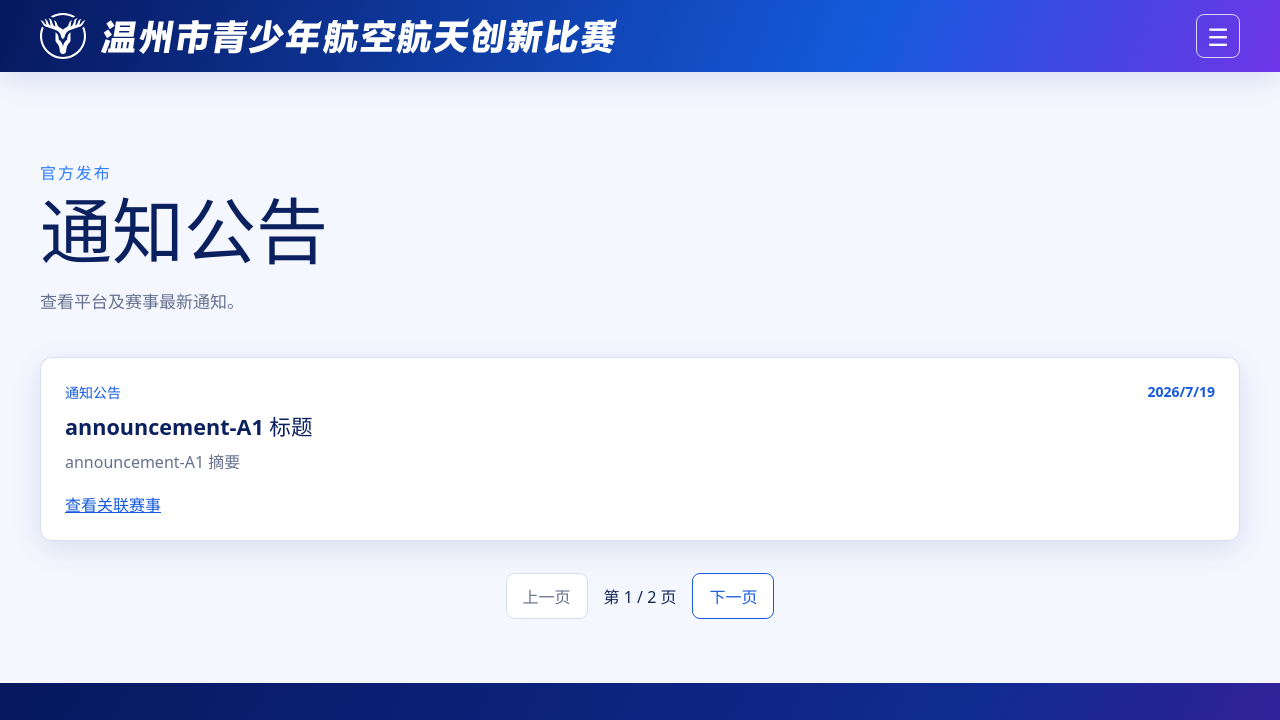
Scenario: public content lists › keeps announcements fixed to rows, paginates and preserves the legal type filter
The image size is (1280, 720).
Expected: the link "announcement-A1 标题" is shown, top-left (65, 412), bottom-right (313, 440)
Click the button "下一页" at (734, 596), box top-left (692, 573), bottom-right (774, 619)
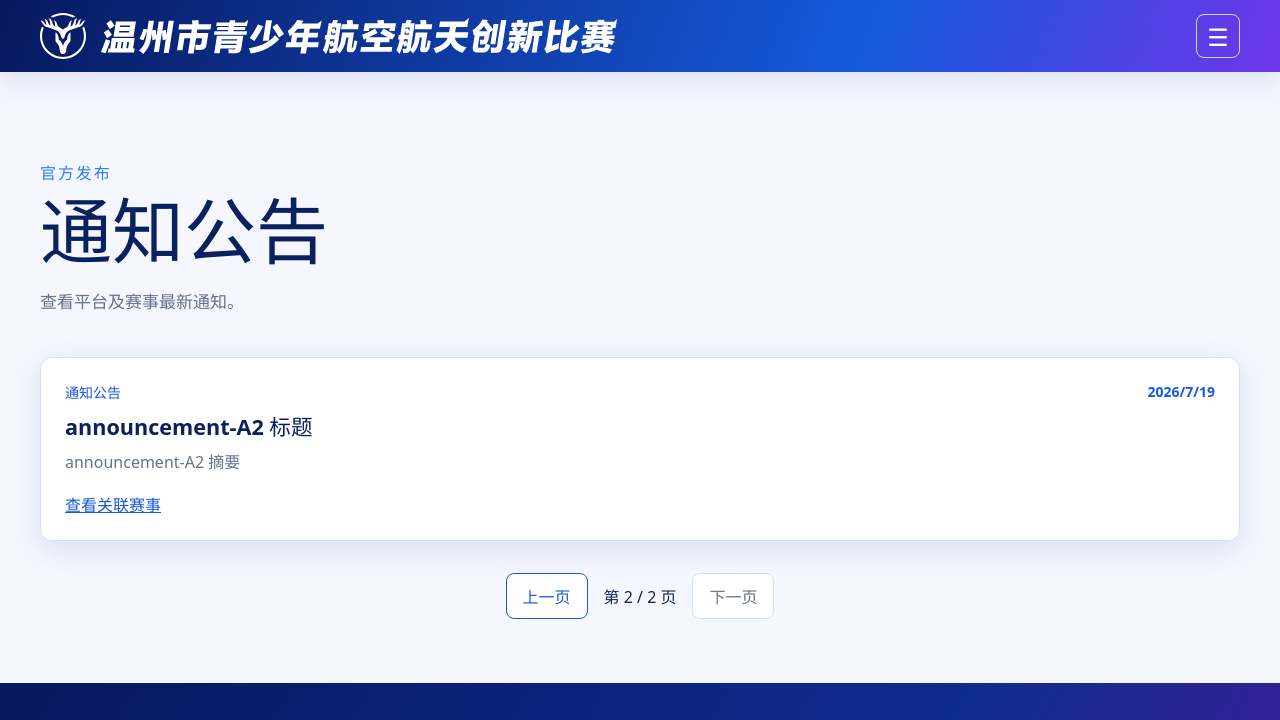
Expected: the link "announcement-A2 标题" is shown, top-left (65, 412), bottom-right (313, 440)
